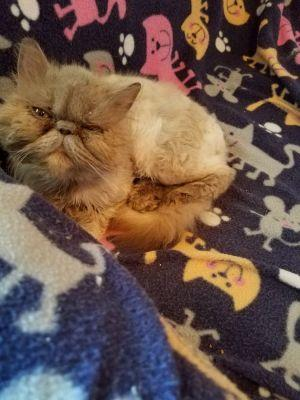persian: (1, 31, 150, 207)
